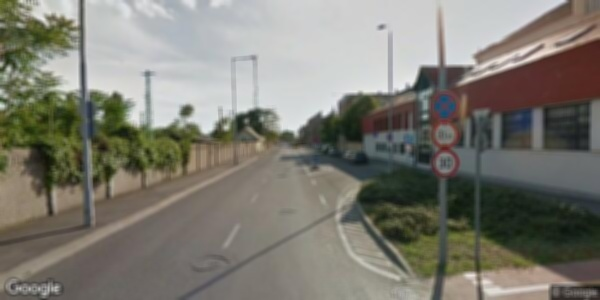b_speed_limit: (431, 148, 460, 179)
e_no_stop_park: (429, 90, 460, 119)
f_others: (431, 119, 460, 149)
